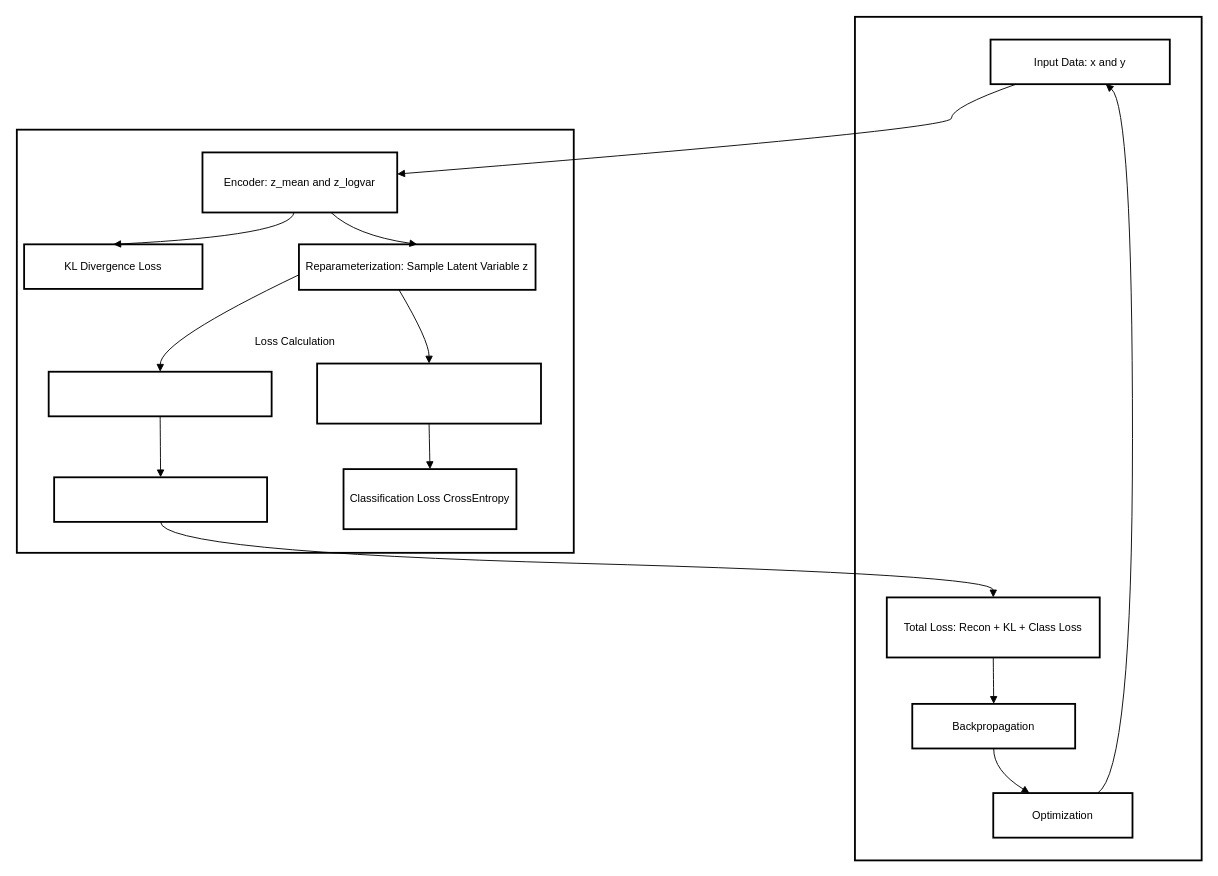
This 1218x876 diagram has some shape labels left out. Here are the shapes that lost their labels. From the top down, the box of each, then its label:
(47, 370, 272, 417): Decoder: Reconstructed x
(316, 362, 541, 424): Classifier: Predicted Class y_pred
(854, 15, 1202, 861): Training Loop
(53, 476, 268, 522): Reconstruction Loss MSE
